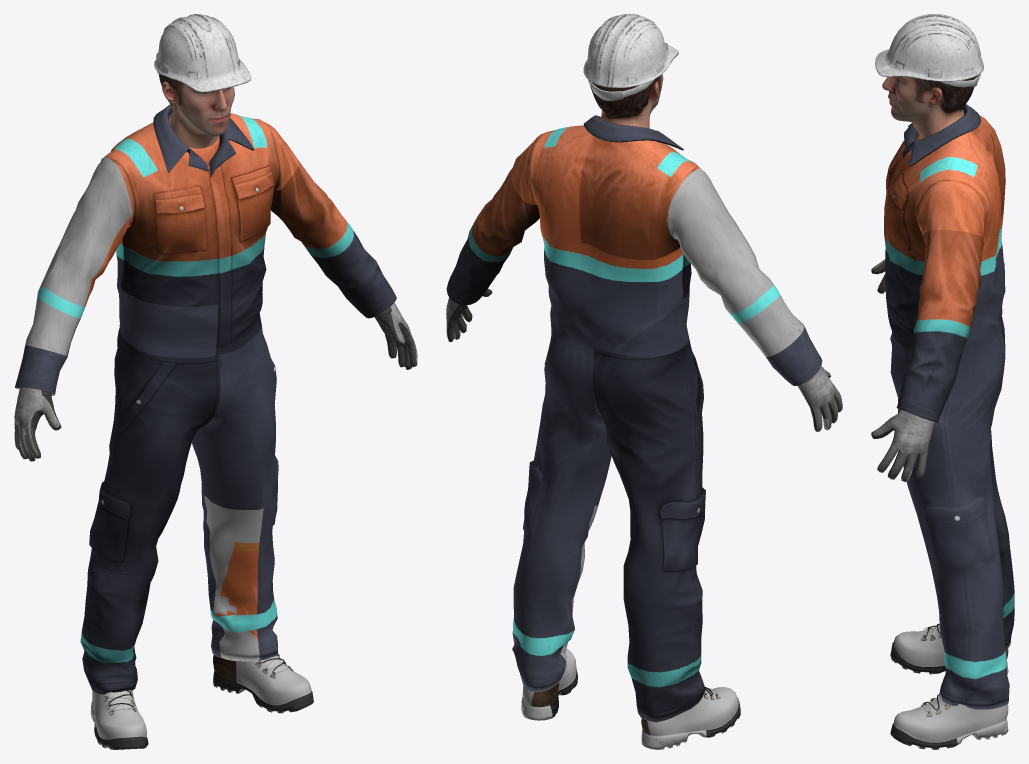
File: WorkerTESIS.fbx
3 renders of one model, left to right at view 1: azimuth 30°, elevation 25°; view 2: azimuth 150°, elevation 25°; view 3: azimuth 270°, elevation 25°, orthographic. The views are drawn at different scales.
Visible parts, largest first — view 1: g body_low, g MALE_ANATOMY_LOW_POLY_DELIVERY; view 2: g body_low, g MALE_ANATOMY_LOW_POLY_DELIVERY; view 3: g body_low, g MALE_ANATOMY_LOW_POLY_DELIVERY.
Boxes of the visible parts, x1,y1,x2,y2 form: g body_low: (14,14,417,749); g MALE_ANATOMY_LOW_POLY_DELIVERY: (159,74,234,148); g body_low: (446,14,842,749); g MALE_ANATOMY_LOW_POLY_DELIVERY: (590,74,663,128); g body_low: (871,14,1014,749); g MALE_ANATOMY_LOW_POLY_DELIVERY: (882,76,976,142).
Bounding box in the file's own units: 16.7 × 28.71 × 5.45.
Materials: 2 (2 with a texture image).
